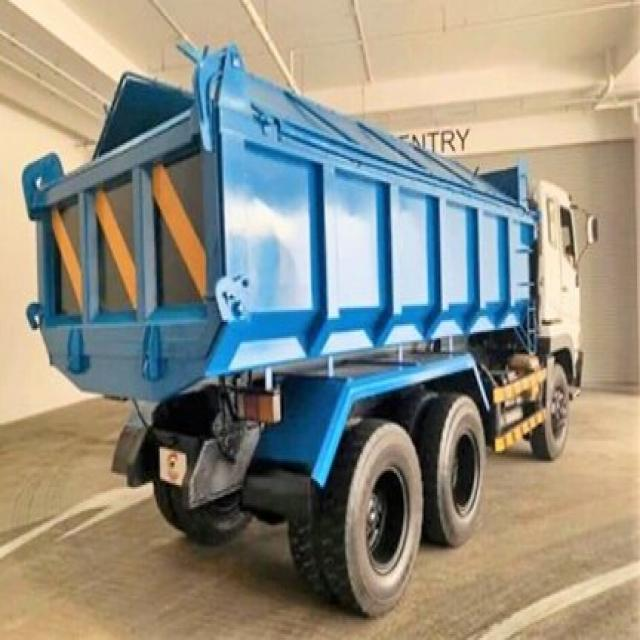truck: (21, 32, 597, 618)
